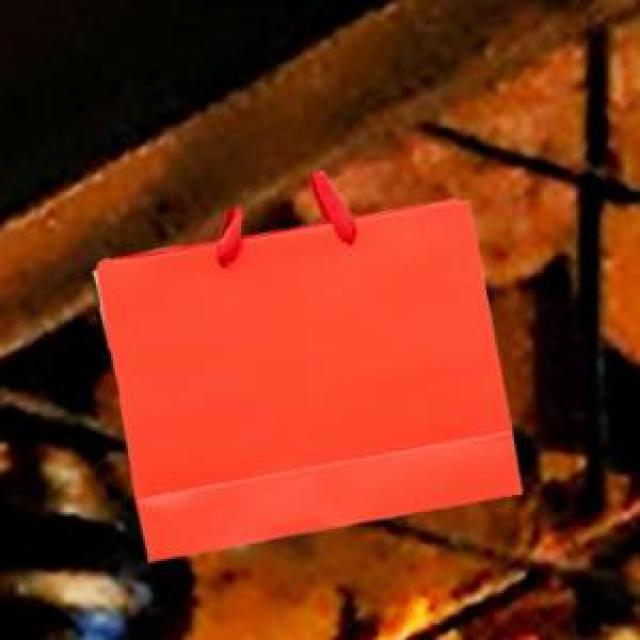Paper_Bag: (90, 167, 520, 558)
